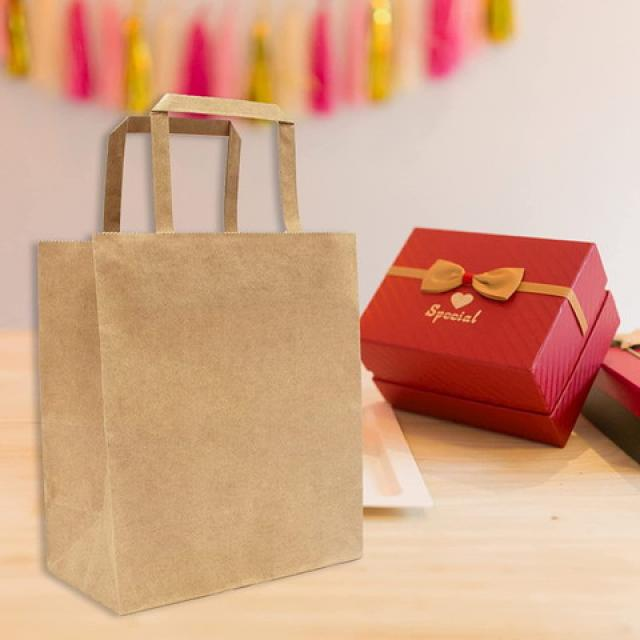paper bag: (38, 88, 364, 619)
